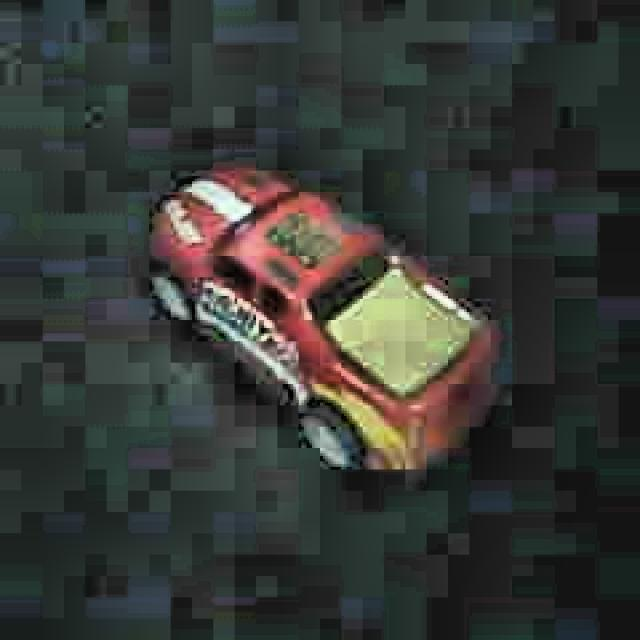car: (137, 150, 512, 490)
